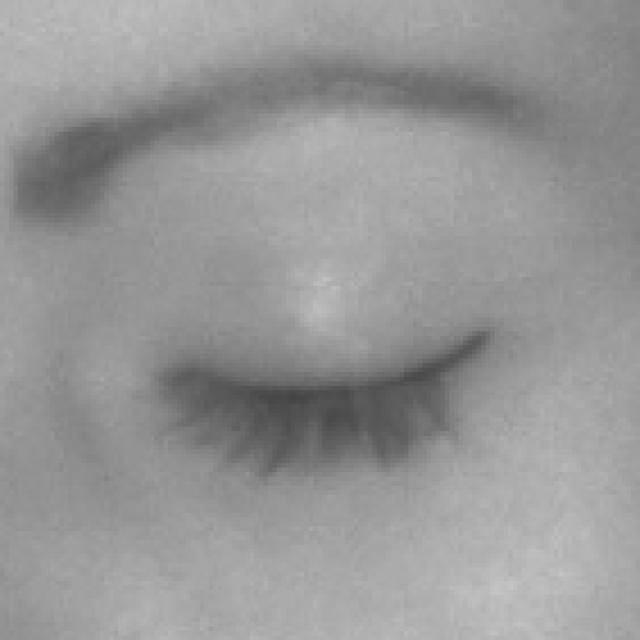close: (0, 24, 609, 560)
